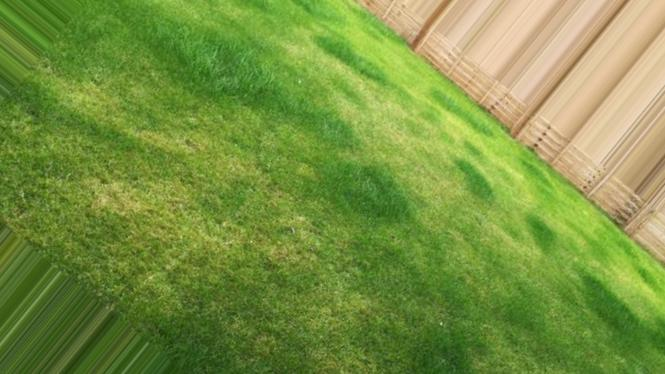patch: (103, 178, 224, 238)
